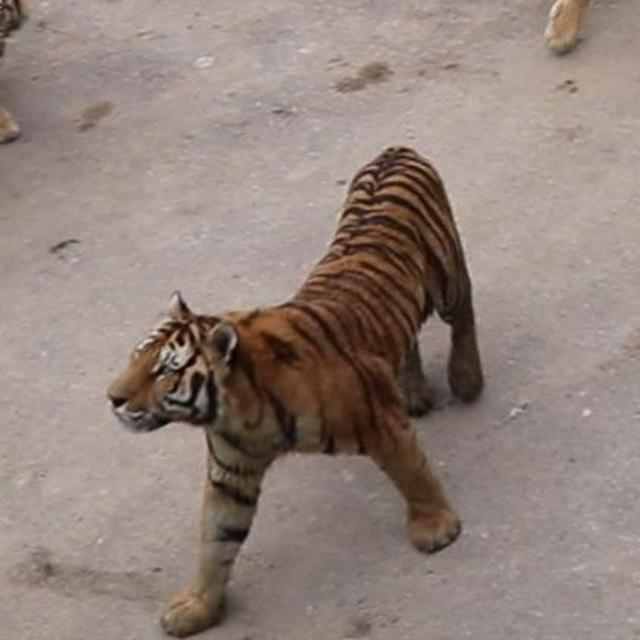tiger: (105, 143, 484, 637), (541, 0, 639, 55), (0, 0, 26, 144)
